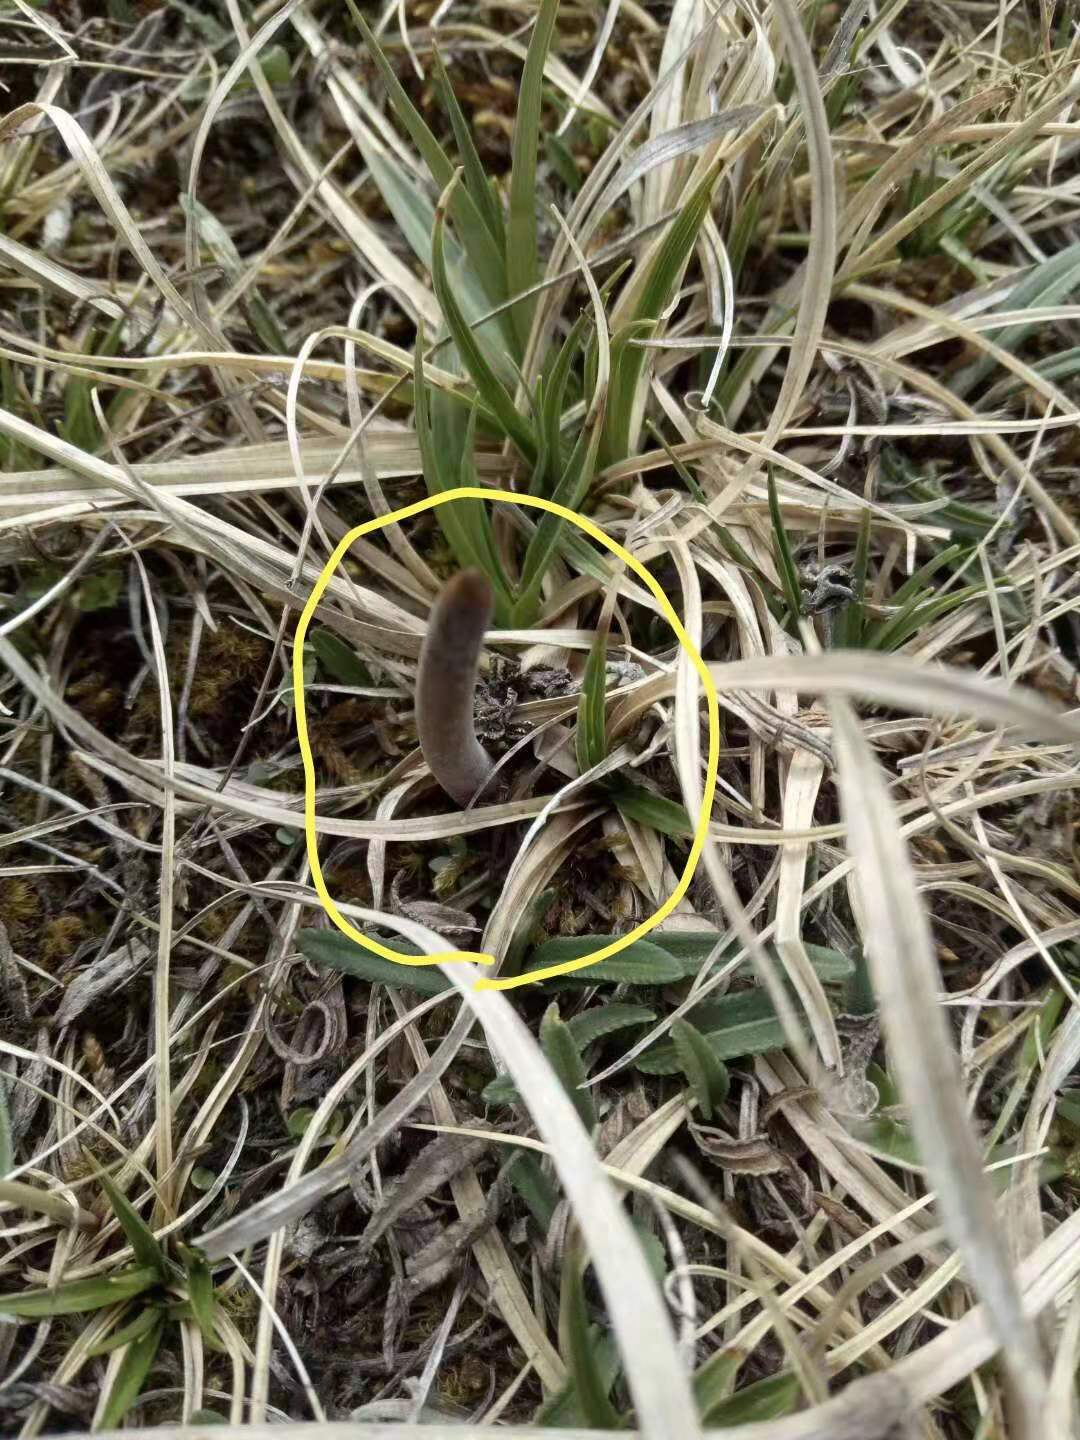Chongcao: (413, 566, 500, 802)
